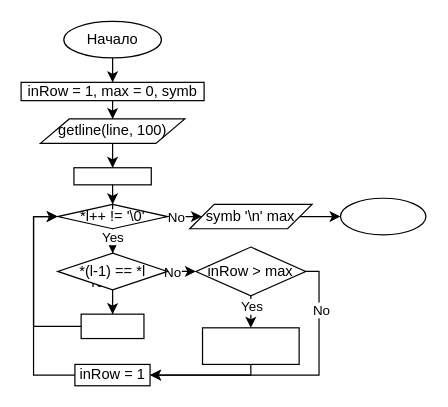
The diagram is 448 pixels wide and 407 high, and some of its shapes have lost their labels. Here are the shapes that lost their labels. From the top down, the centre of each, then its label:
At point (112, 176): "*l = line".
At point (382, 216): "Конец".
At point (112, 326): "inRow++".
At point (250, 345): "max = inRow symb = *(l-1)".
